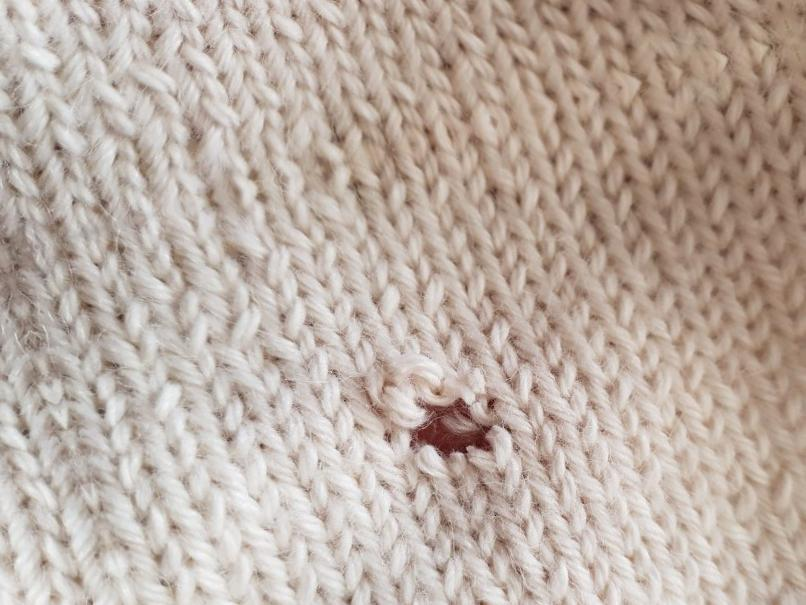hole: (399, 383, 519, 478)
